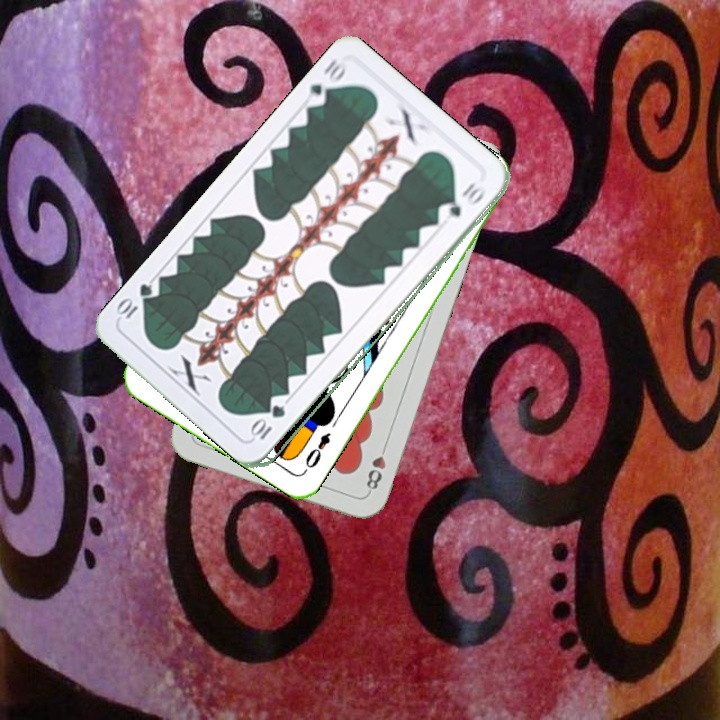EO: (299, 428, 333, 475)
G10: (301, 56, 351, 110), (249, 401, 288, 443)
H8: (362, 439, 390, 496)
